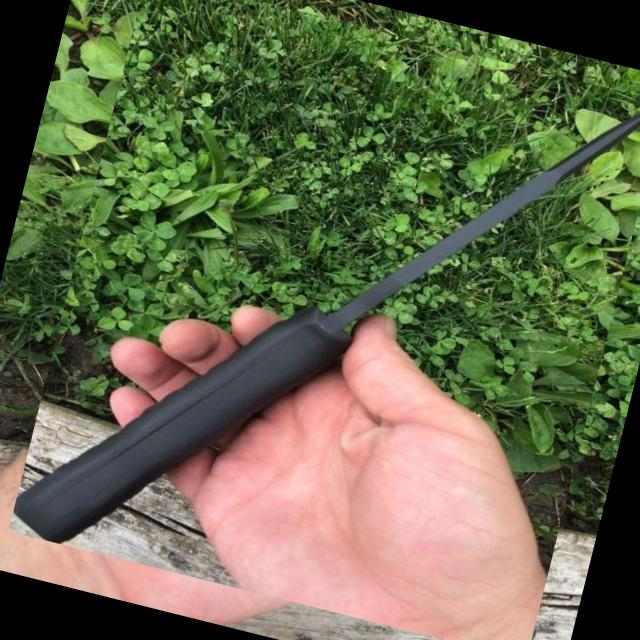Knife: (15, 113, 640, 543)
